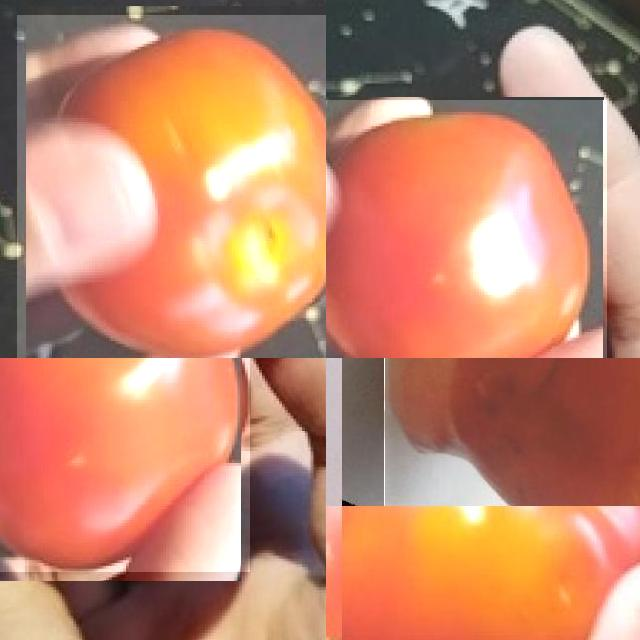0: (342, 506, 640, 640)
1: (384, 358, 640, 506)
Fresh Tomato: (17, 14, 326, 358), (326, 100, 607, 358), (0, 358, 250, 571)
